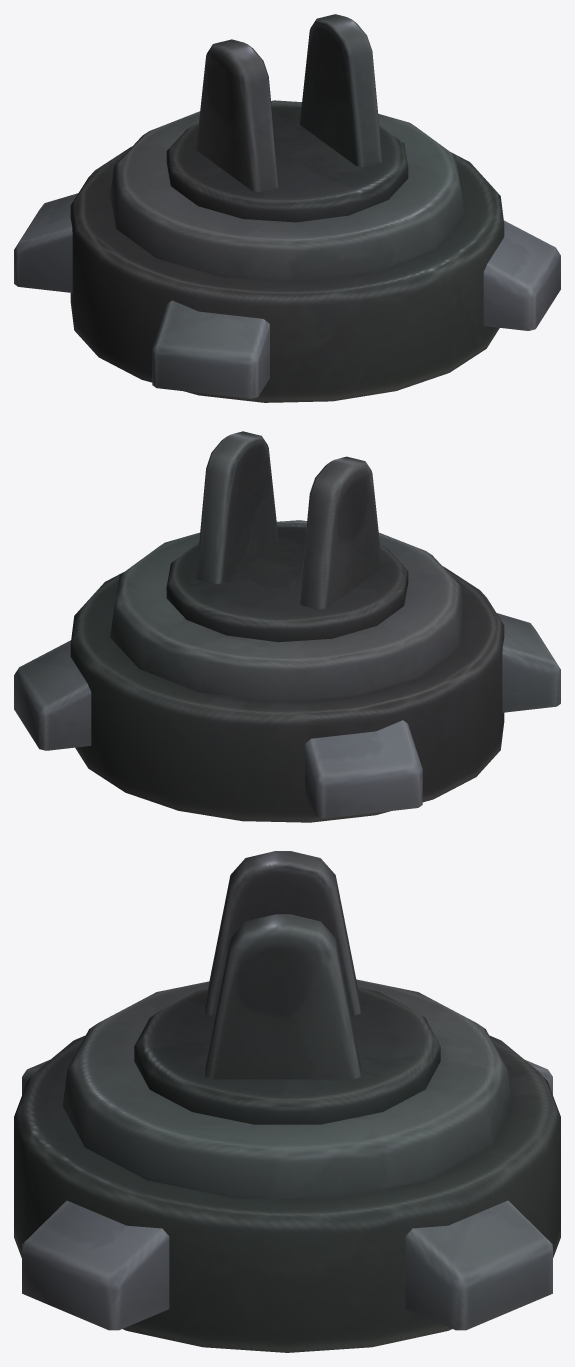
File: SM_TowerDefense_SciFi_Weapon_Shoot_Base.fbx
3 views of the same model, one above another, from view 1: azimuth 30°, elevation 25°; view 2: azimuth 150°, elevation 25°; view 3: azimuth 270°, elevation 25° (orthographic). The views are drawn at different scales.
Parts seen in each view (by area): view 1: SM_TowerDefense_SciFi_Weapon_Shoot_Base, SM_TowerDefense_SciFi_Weapon_Shoot_Base_Rotatable; view 2: SM_TowerDefense_SciFi_Weapon_Shoot_Base, SM_TowerDefense_SciFi_Weapon_Shoot_Base_Rotatable; view 3: SM_TowerDefense_SciFi_Weapon_Shoot_Base, SM_TowerDefense_SciFi_Weapon_Shoot_Base_Rotatable.
Part boxes in pixels (x1=…): SM_TowerDefense_SciFi_Weapon_Shoot_Base: x1=14, y1=100, x2=560, y2=402; SM_TowerDefense_SciFi_Weapon_Shoot_Base_Rotatable: x1=166, y1=14, x2=408, y2=222; SM_TowerDefense_SciFi_Weapon_Shoot_Base: x1=14, y1=520, x2=560, y2=822; SM_TowerDefense_SciFi_Weapon_Shoot_Base_Rotatable: x1=166, y1=431, x2=408, y2=642; SM_TowerDefense_SciFi_Weapon_Shoot_Base: x1=14, y1=979, x2=560, y2=1352; SM_TowerDefense_SciFi_Weapon_Shoot_Base_Rotatable: x1=134, y1=851, x2=440, y2=1124.
Size of the model in its own units: 401 by 264 by 374.
